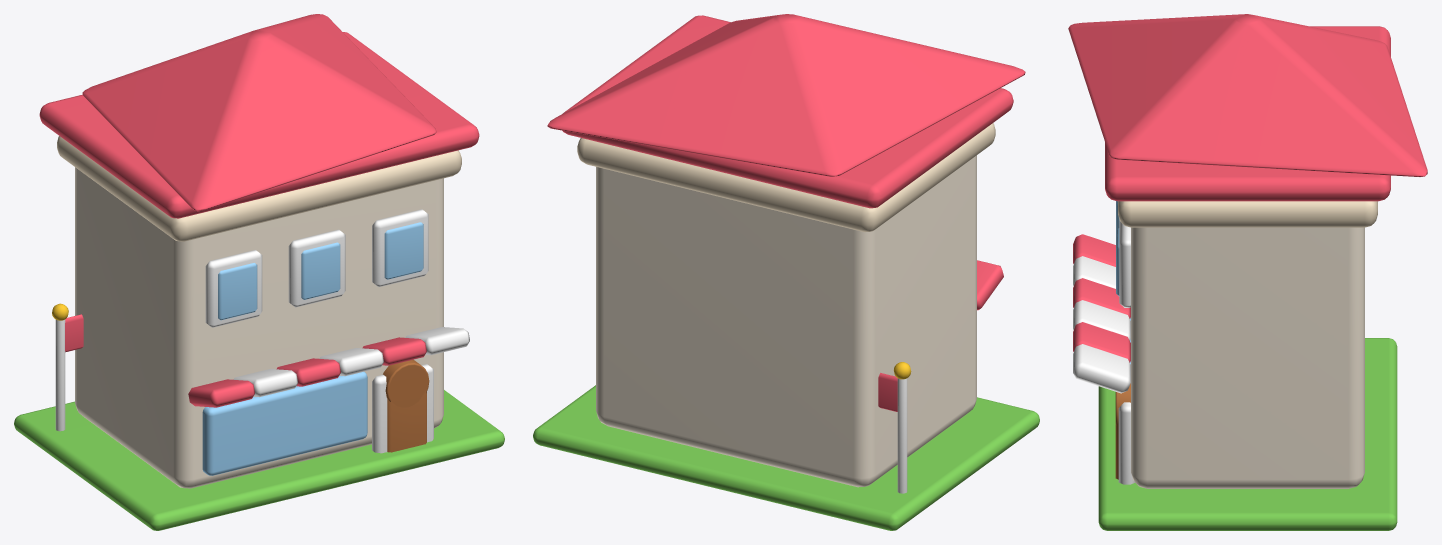
The picture shows the model from 3 angles, left to right: view 1: azimuth 30°, elevation 25°; view 2: azimuth 150°, elevation 25°; view 3: azimuth 270°, elevation 25°; orthographic projection. The views are drawn at different scales.
Parts seen in each view (by area): view 1: Cube; view 2: Cube; view 3: Cube.
Boxes of the visible parts, x1,y1,x2,y2 form: Cube: (14, 14, 504, 530); Cube: (533, 14, 1039, 530); Cube: (1068, 14, 1427, 530).
Bounding box in the file's own units: 0.66 × 0.72 × 0.5536.
